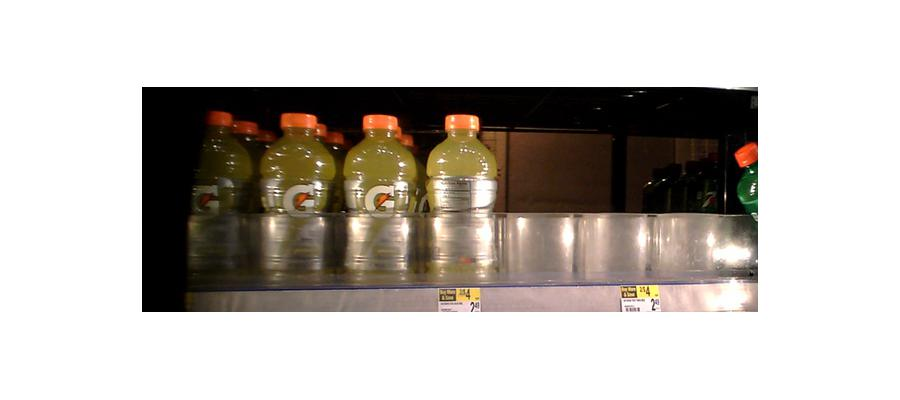bottle: (257, 109, 334, 286), (340, 110, 417, 284), (423, 108, 499, 284), (191, 108, 252, 282)
